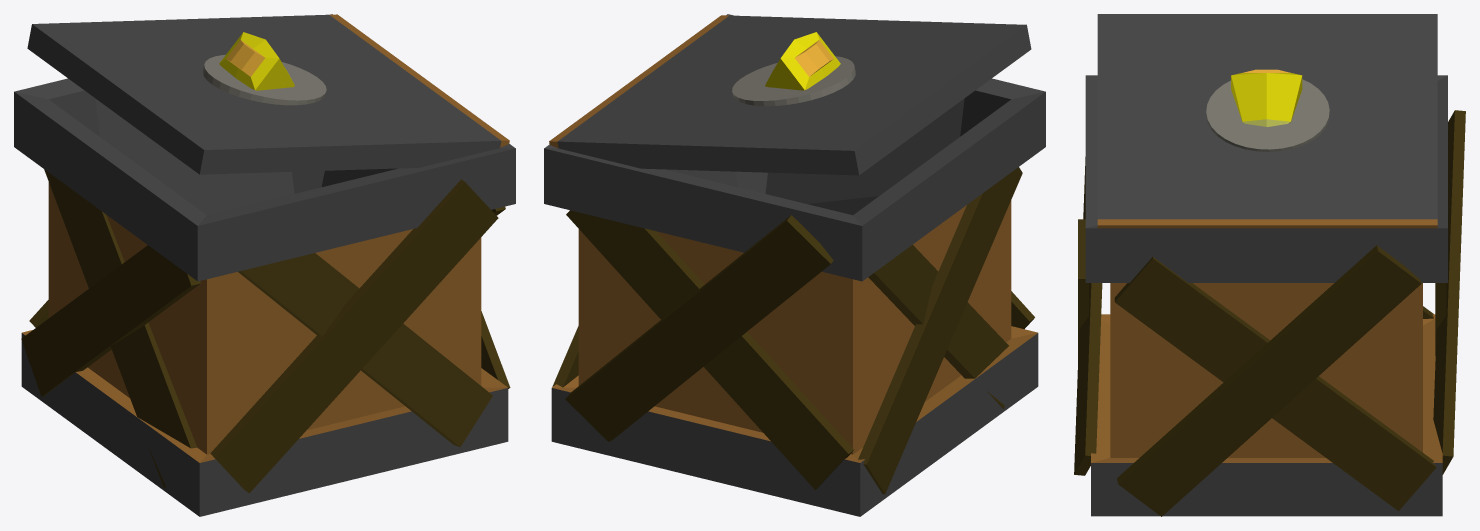
File: crate_corn.fbx
The picture shows the model from 3 angles, left to right: view 1: azimuth 30°, elevation 25°; view 2: azimuth 150°, elevation 25°; view 3: azimuth 270°, elevation 25°; orthographic projection.
Parts seen in each view (by area): view 1: Crate, Lid, Cube.004, Cube.003, Cube.005, Cube.006, Cylinder, Cube, Cube.007; view 2: Crate, Lid, Cube.002, Cube.001, Cube.005, Cube.006, Cylinder, Cube, Cube.008; view 3: Lid, Crate, Cube.007, Cube.008, Cube.002, Cylinder, Cube.003, Cube, Cube.004, Cube.001.
Boxes of the visible parts, x1,y1,x2,y2 form: Crate: [14, 14, 515, 516]; Lid: [27, 14, 509, 174]; Cube.004: [210, 179, 498, 493]; Cube.003: [238, 253, 492, 447]; Cube.005: [21, 245, 200, 396]; Cube.006: [44, 169, 197, 487]; Cylinder: [202, 54, 326, 105]; Cube: [219, 32, 294, 90]; Cube.007: [481, 311, 510, 388]; Crate: [544, 14, 1045, 516]; Lid: [549, 15, 1031, 175]; Cube.002: [565, 215, 833, 441]; Cube.001: [566, 210, 853, 489]; Cube.005: [858, 167, 1022, 494]; Cube.006: [868, 244, 1008, 408]; Cylinder: [732, 56, 855, 106]; Cube: [765, 32, 840, 90]; Cube.008: [552, 326, 578, 387]; Lid: [1097, 14, 1437, 228]; Crate: [1085, 75, 1447, 516]; Cube.007: [1117, 245, 1421, 516]; Cube.008: [1114, 257, 1436, 511]; Cube.002: [1433, 110, 1465, 474]; Cylinder: [1206, 79, 1329, 151]; Cube.003: [1074, 157, 1102, 475]; Cube: [1231, 69, 1302, 126]; Cube.004: [1078, 219, 1088, 360]; Cube.001: [1435, 283, 1446, 355].
Size of the model in its own units: 818 by 875 by 841.
